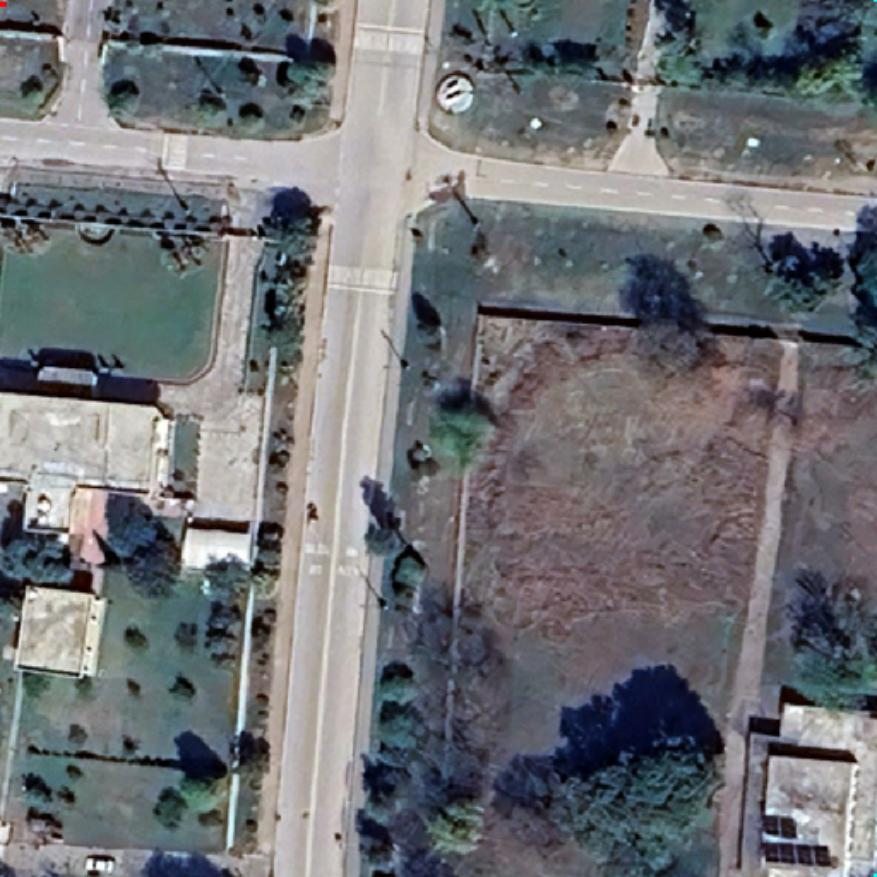Solarpanel: (758, 839, 836, 871), (758, 811, 802, 841)
